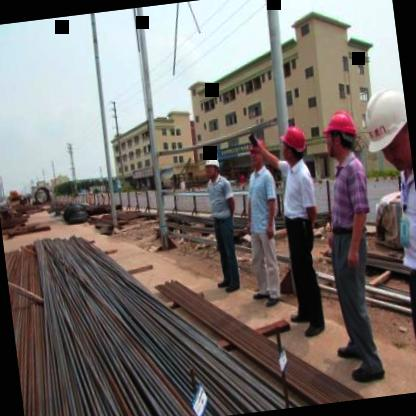helmet: (361, 82, 413, 176), (320, 106, 360, 162), (278, 122, 310, 167), (244, 134, 268, 170), (200, 150, 223, 181)
